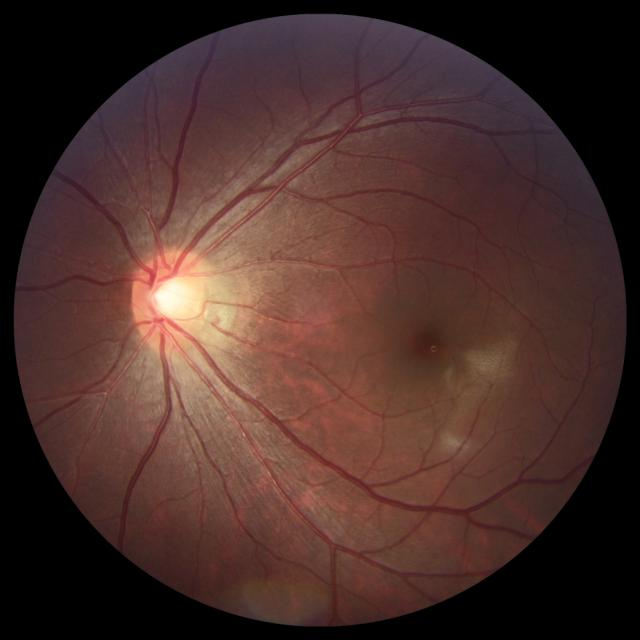OC: (150, 275, 198, 323)
OD: (132, 248, 208, 347)
